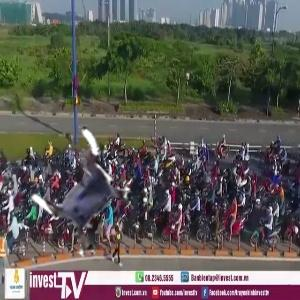drone: (28, 136, 144, 252)
